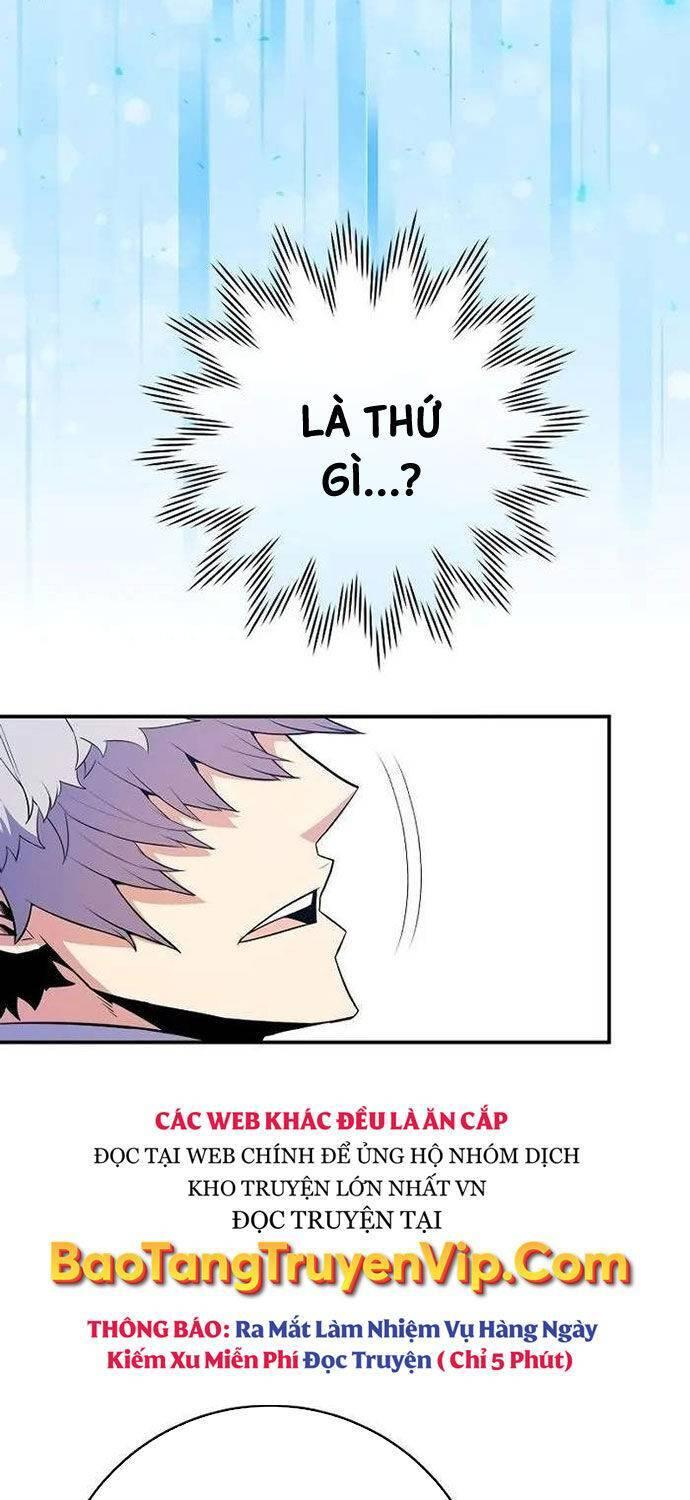quangcao: (40, 1096, 640, 1376)
